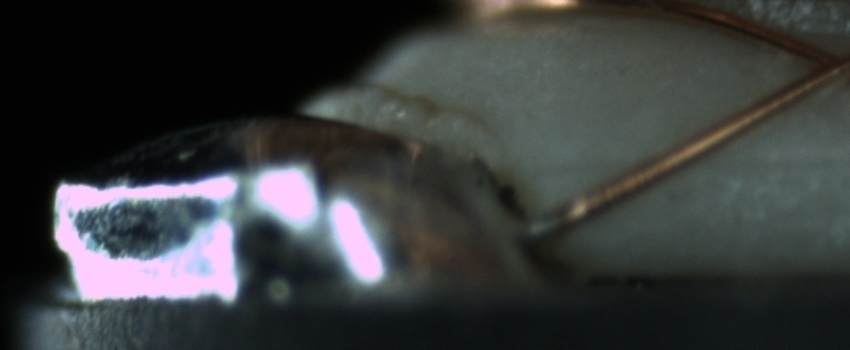CL: (781, 31, 849, 95)
DL: (559, 128, 849, 190)
TS: (522, 208, 564, 242)
